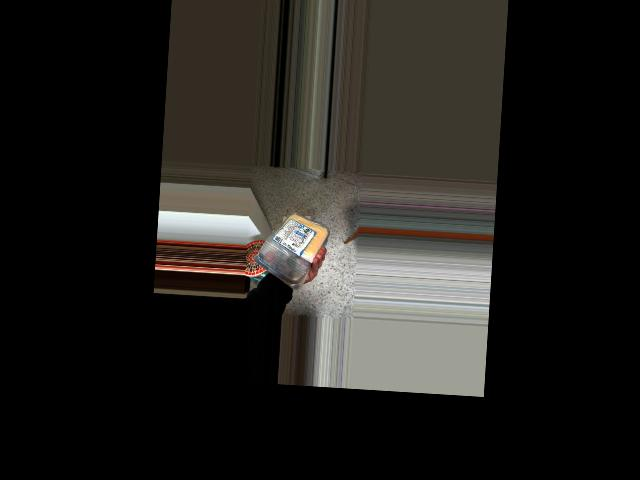cheese: (249, 208, 325, 273)
